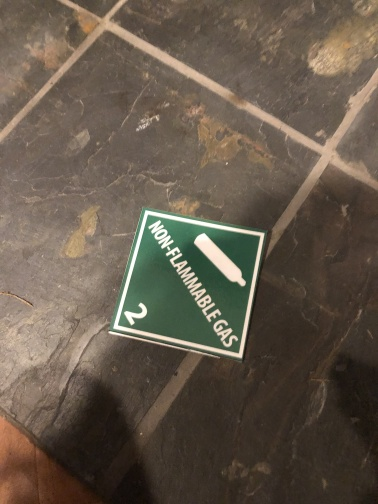NonFlammableGas: (107, 207, 269, 362)
